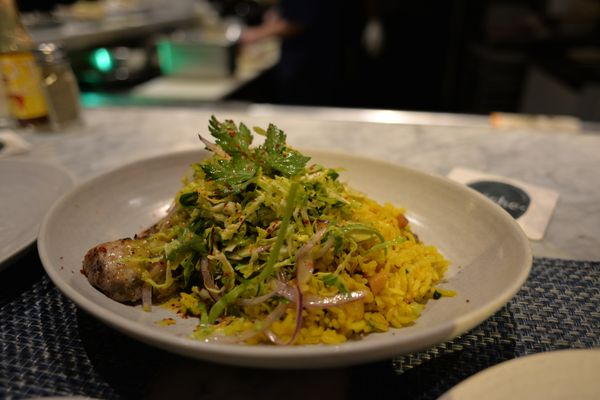sushi: (36, 120, 534, 374)
